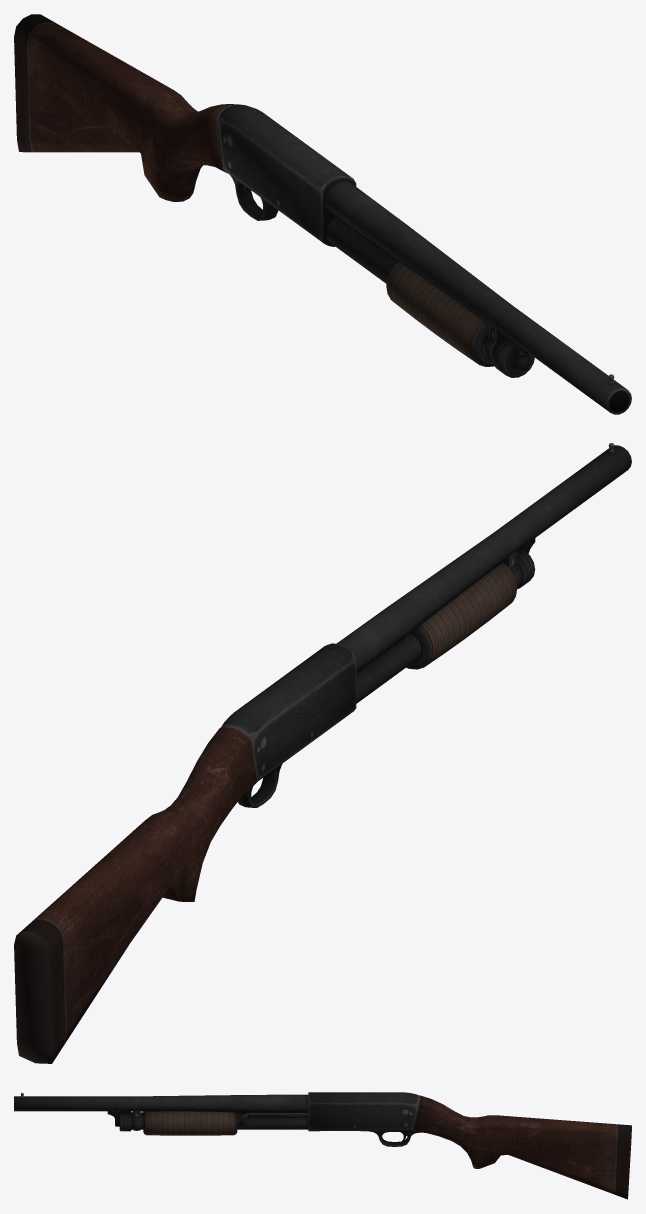
Rendered from Weapons_PumpShotgun01_LOD0.glb.
3 renders of one model, top to bottom at view 1: azimuth 30°, elevation 25°; view 2: azimuth 150°, elevation 25°; view 3: azimuth 270°, elevation 25°, orthographic. The views are drawn at different scales.
Visible parts, largest first — view 1: Hoodie; view 2: Hoodie; view 3: Hoodie.
Boxes of the visible parts, left/top/right/bottom form: Hoodie: left=14, top=14, right=631, bottom=414; Hoodie: left=14, top=443, right=631, bottom=1063; Hoodie: left=14, top=1092, right=631, bottom=1199.
Size of the model in its own units: 0.0509 by 0.1962 by 1.05.
1 material, 1 textured.
